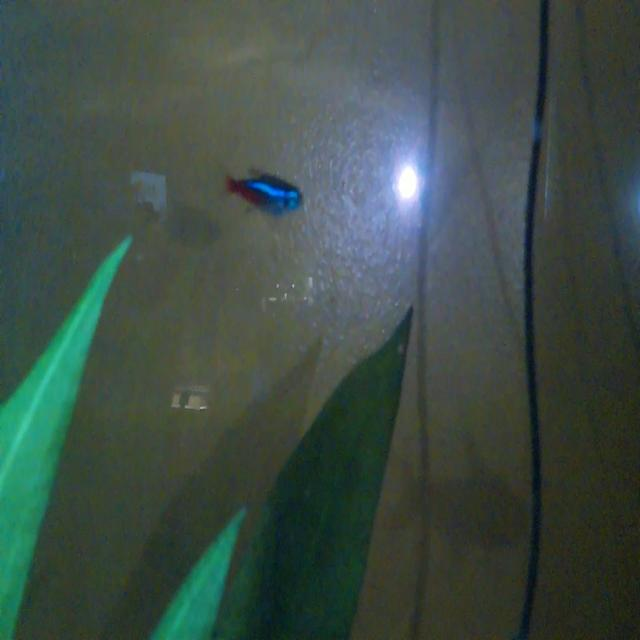fish: (226, 154, 310, 218)
